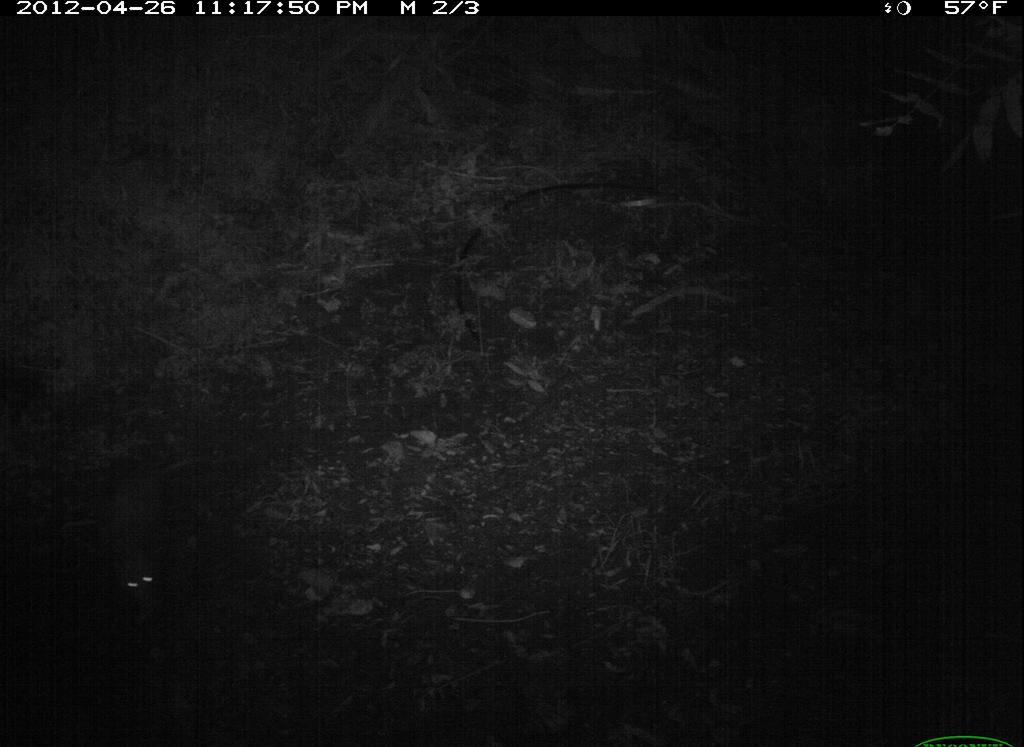opossum: (97, 441, 228, 621)
